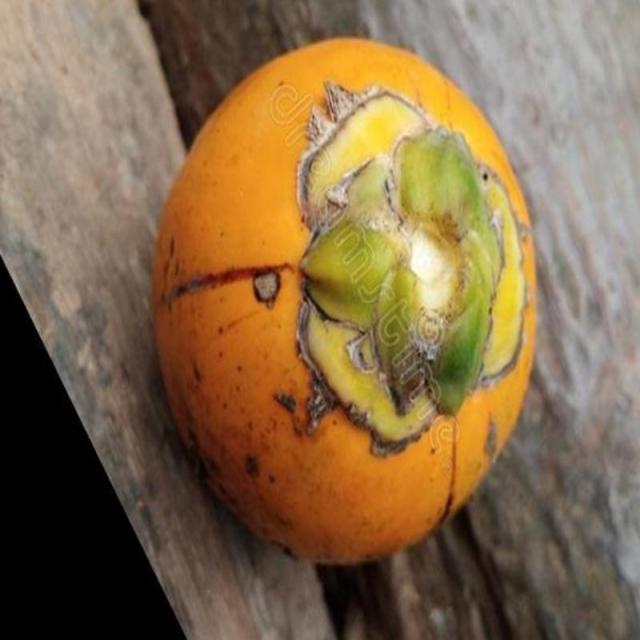good: (151, 37, 539, 569)
